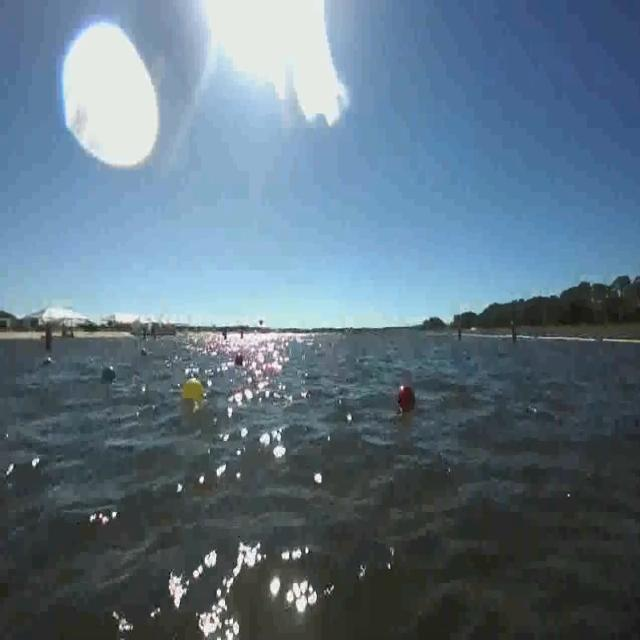red-buoy: (394, 384, 421, 424)
yellow-buoy: (182, 374, 205, 400)
